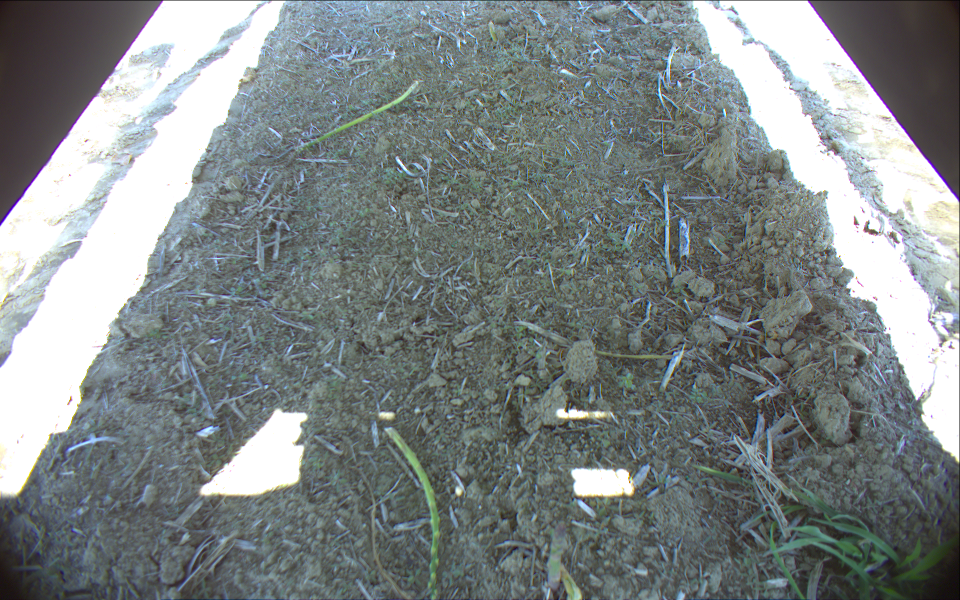aspa: (544, 521, 570, 592)
